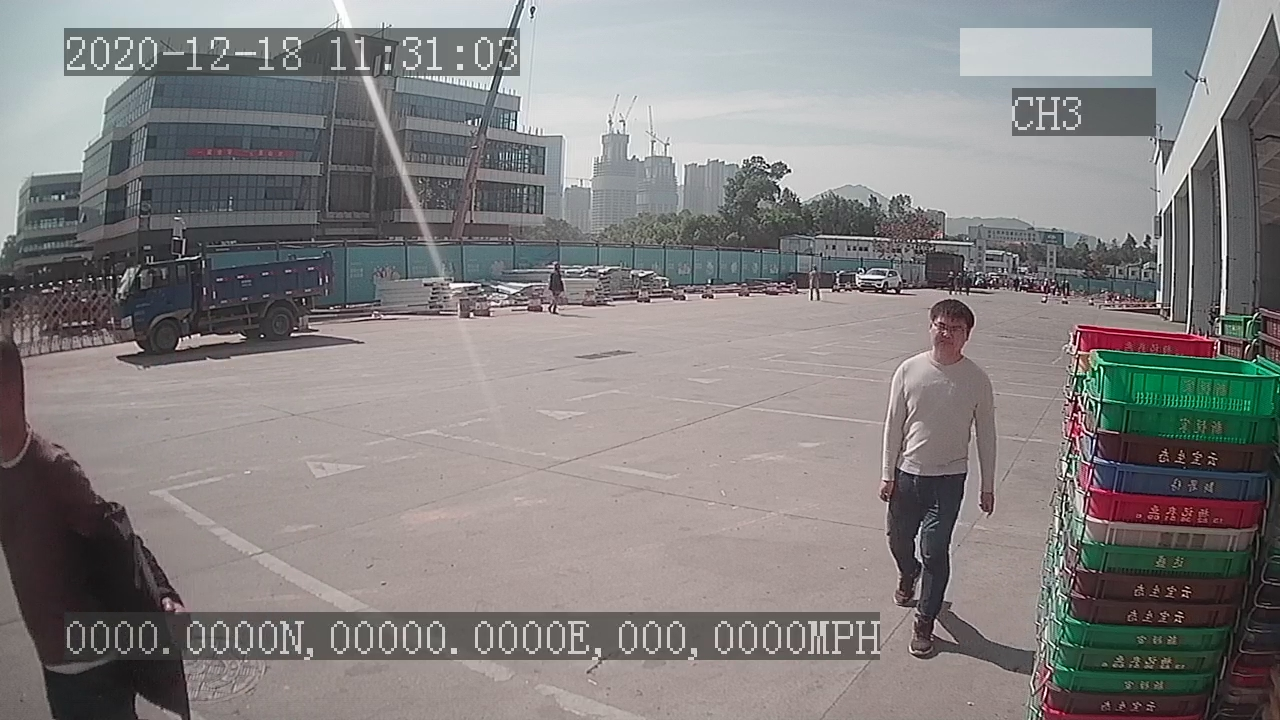person: (865, 292, 1005, 661)
